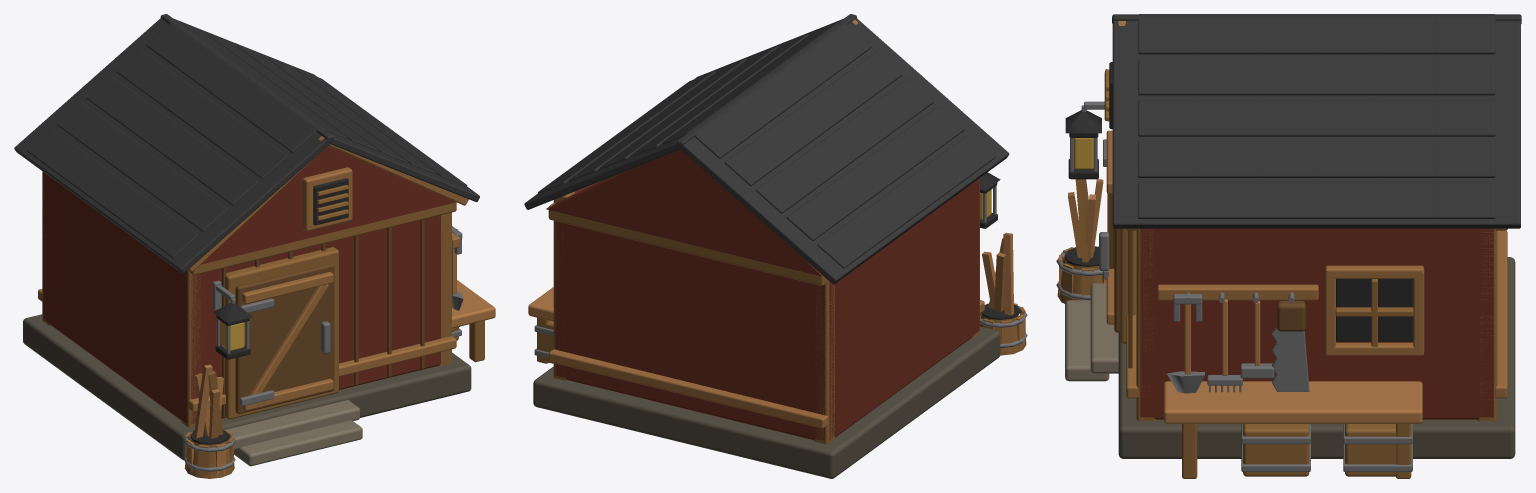
File: tool-shed.glb
3 views of the same model, side by side, from view 1: azimuth 30°, elevation 25°; view 2: azimuth 150°, elevation 25°; view 3: azimuth 270°, elevation 25° (orthographic). The views are drawn at different scales.
Visible parts, largest first — view 1: tool-shed-farm-roof-slate, tool-shed-farm-barn-red-dark, tool-shed-farm-wood-dark, tool-shed-farm-stone-dark, tool-shed-farm-wood-shadow, tool-shed-farm-wood, tool-shed-farm-stone, tool-shed-farm-metal, tool-shed-farm-wood-light, tool-shed-farm-window, tool-shed-farm-gold; view 2: tool-shed-farm-barn-red-dark, tool-shed-farm-roof-slate, tool-shed-farm-stone-dark, tool-shed-farm-wood-dark, tool-shed-farm-wood, tool-shed-farm-wood-light, tool-shed-farm-metal, tool-shed-farm-window; view 3: tool-shed-farm-roof-slate, tool-shed-farm-barn-red-dark, tool-shed-farm-wood-dark, tool-shed-farm-wood-light, tool-shed-farm-wood, tool-shed-farm-stone-dark, tool-shed-farm-metal, tool-shed-farm-window, tool-shed-farm-stone, tool-shed-farm-wood-shadow, tool-shed-farm-gold.
Boxes of the visible parts, x1,y1,x2,y2 form: tool-shed-farm-roof-slate: (14, 14, 479, 273); tool-shed-farm-barn-red-dark: (43, 146, 455, 424); tool-shed-farm-wood-dark: (42, 171, 484, 478); tool-shed-farm-stone-dark: (23, 314, 471, 460); tool-shed-farm-wood-shadow: (222, 219, 424, 417); tool-shed-farm-wood: (38, 136, 468, 474); tool-shed-farm-stone: (225, 400, 362, 466); tool-shed-farm-metal: (184, 226, 463, 471); tool-shed-farm-wood-light: (186, 248, 495, 475); tool-shed-farm-window: (190, 178, 348, 444); tool-shed-farm-gold: (221, 322, 244, 350); tool-shed-farm-barn-red-dark: (546, 149, 979, 440); tool-shed-farm-roof-slate: (524, 14, 1009, 284); tool-shed-farm-stone-dark: (533, 326, 1000, 478); tool-shed-farm-wood-dark: (537, 178, 1026, 444); tool-shed-farm-wood: (549, 19, 1025, 428); tool-shed-farm-wood-light: (528, 232, 1024, 348); tool-shed-farm-metal: (534, 186, 1027, 358); tool-shed-farm-window: (980, 172, 1020, 319); tool-shed-farm-roof-slate: (1112, 14, 1521, 228); tool-shed-farm-barn-red-dark: (1140, 228, 1493, 419); tool-shed-farm-wood-dark: (1057, 69, 1507, 478); tool-shed-farm-wood-light: (1059, 179, 1422, 423); tool-shed-farm-wood: (1063, 21, 1507, 398); tool-shed-farm-stone-dark: (1118, 257, 1515, 458); tool-shed-farm-metal: (1056, 101, 1412, 471); tool-shed-farm-window: (1064, 62, 1413, 341); tool-shed-farm-stone: (1065, 283, 1118, 381); tool-shed-farm-wood-shadow: (1114, 228, 1305, 368); tool-shed-farm-gold: (1074, 138, 1093, 169).
Size of the model in its own units: 5.66 by 4.66 by 5.48.
